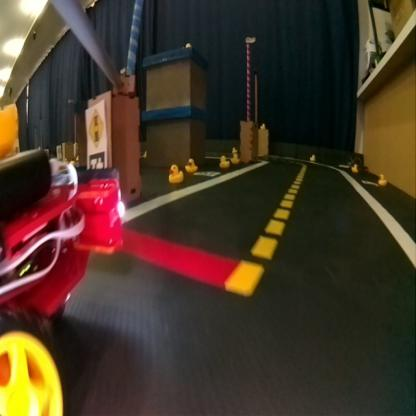Duckie: (168, 164, 182, 182), (185, 158, 198, 172), (218, 155, 228, 167), (378, 174, 384, 186), (231, 154, 237, 163), (310, 154, 316, 162), (352, 164, 358, 171)
Duckiebot: (0, 150, 124, 340)
QR code: (89, 153, 105, 167), (360, 179, 376, 187)
